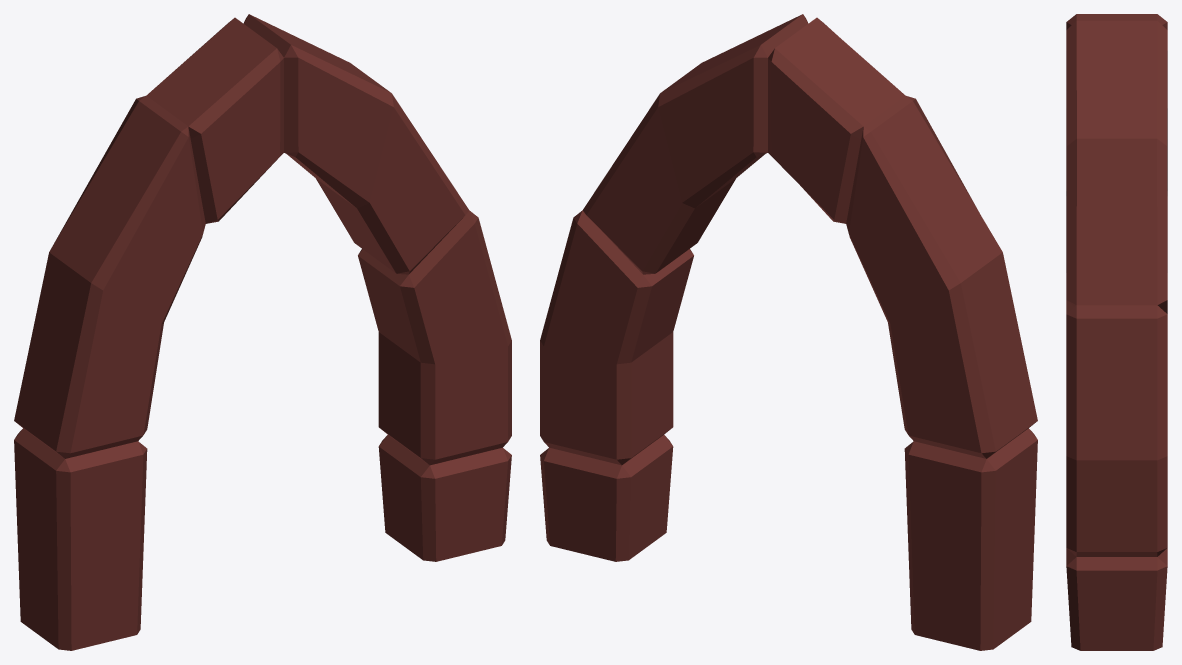
Rendered from Ruin_2_Red.fbx.
The picture shows the model from 3 angles, left to right: view 1: azimuth 30°, elevation 25°; view 2: azimuth 150°, elevation 25°; view 3: azimuth 270°, elevation 25°; orthographic projection. The views are drawn at different scales.
Visible parts, largest first — view 1: Ruin_2_Red; view 2: Ruin_2_Red; view 3: Ruin_2_Red.
Boxes of the visible parts, x1=… form: Ruin_2_Red: x1=14, y1=14, x2=511, y2=650; Ruin_2_Red: x1=540, y1=14, x2=1037, y2=650; Ruin_2_Red: x1=1066, y1=14, x2=1167, y2=650.
Size of the model in its own units: 500 by 577 by 100.
